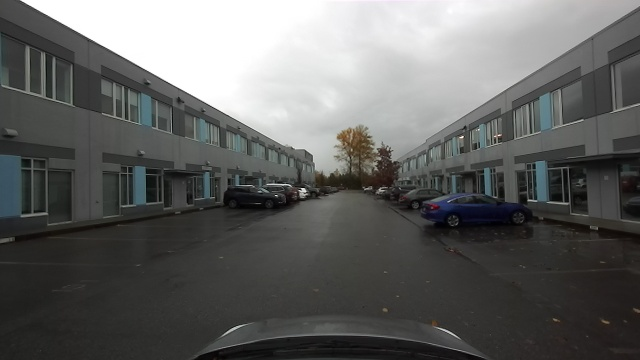car: (423, 192, 535, 227), (224, 184, 284, 209), (398, 187, 422, 212)
